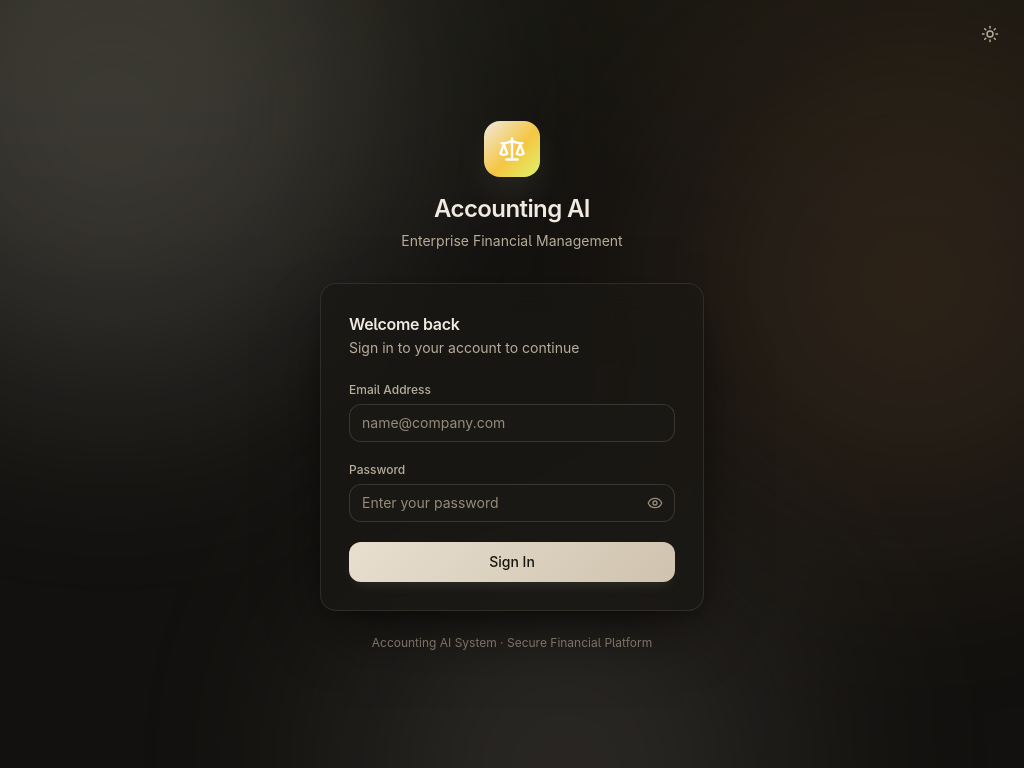
Test: the login form says why a sign-in failed › says the credentials are wrong, in the language of the page
This screenshot has width=1024, height=768.
Type "someone@acme-demo.com" into the field labelled "Email Address". click: (512, 423)
box: [349, 404, 675, 442]
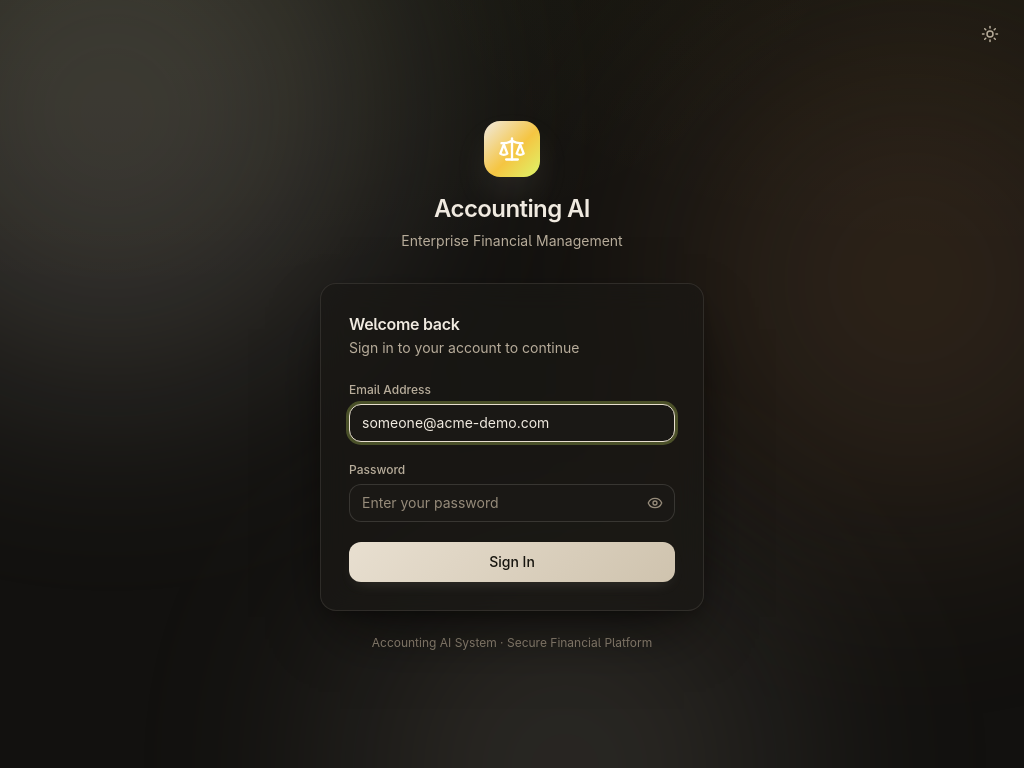
Type "wrong-password" into the password field labelled "Password". click: (512, 503)
box: [349, 484, 675, 522]
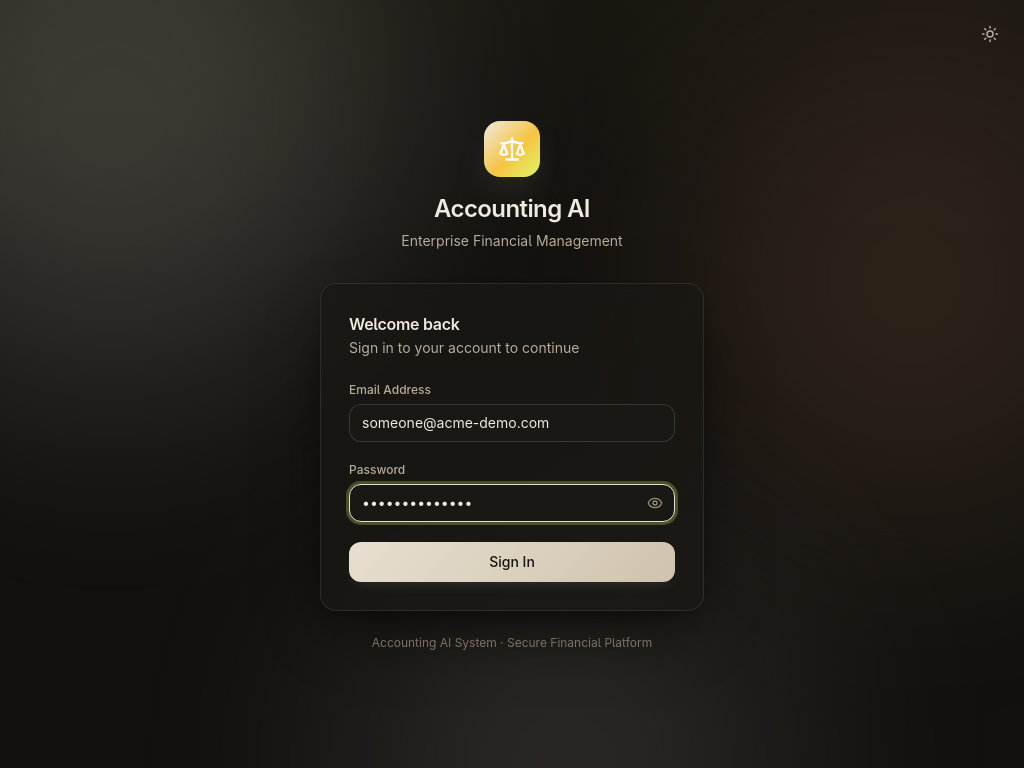
Click the button "Sign In". click: click(512, 562)
box: [349, 542, 675, 582]
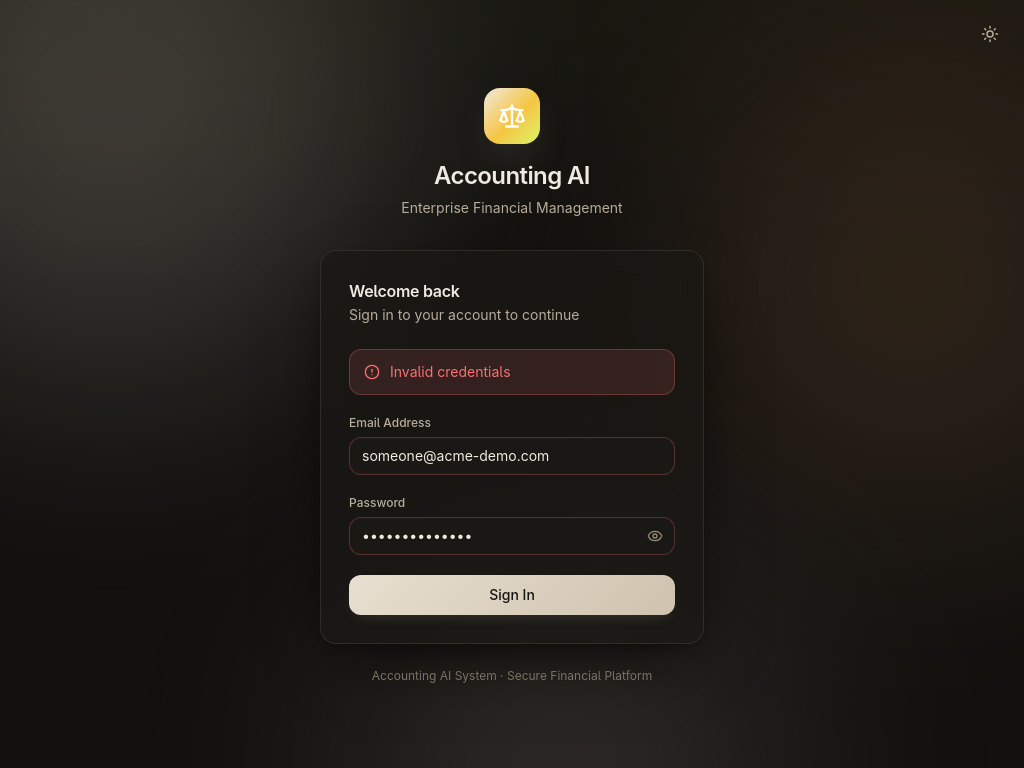
Expected: the message reads "Invalid credentials", [390, 363, 510, 380]
